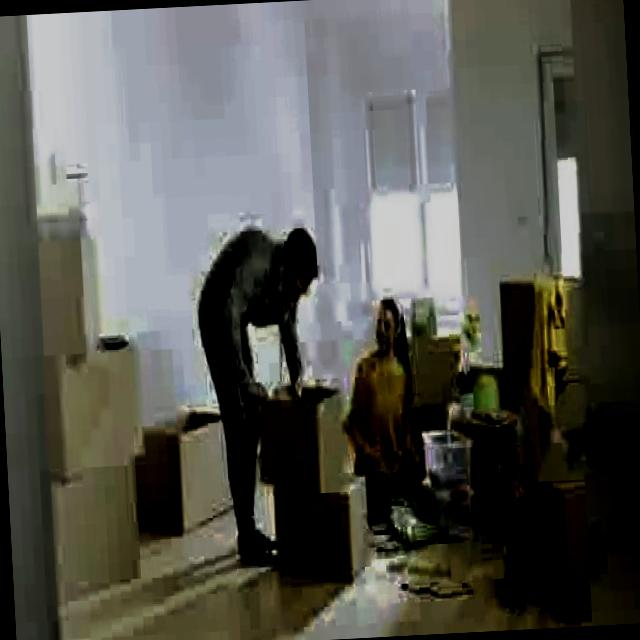Box: (54, 472, 140, 600), (144, 401, 232, 526), (57, 372, 146, 481), (276, 484, 370, 580), (43, 236, 102, 368), (254, 400, 348, 478)
